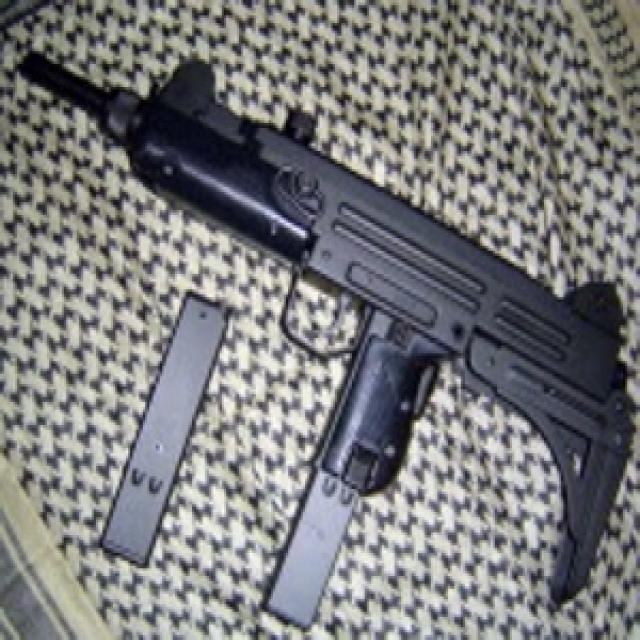SMG: (19, 51, 638, 640)
